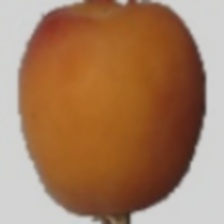apricot: (51, 26, 217, 211)
